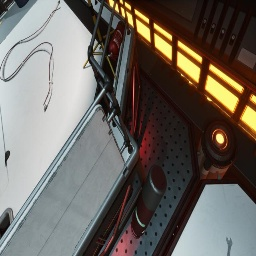FireExtinguisher ]: (106, 20, 125, 61)
NitrogenTank ,: (131, 165, 167, 239)
